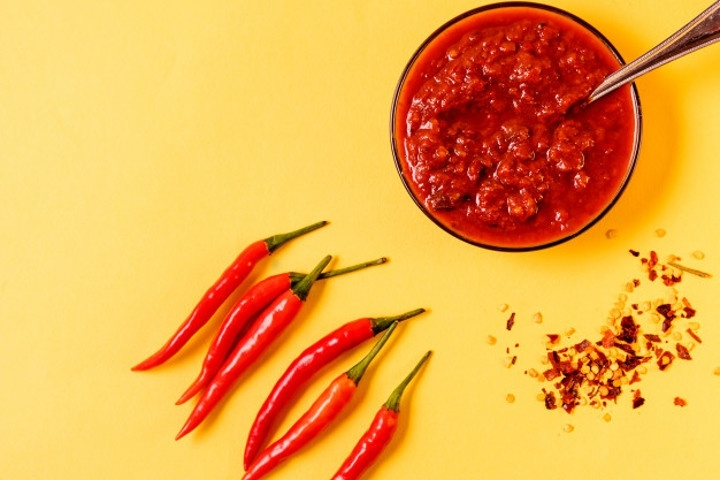sambal: (398, 15, 622, 230)
